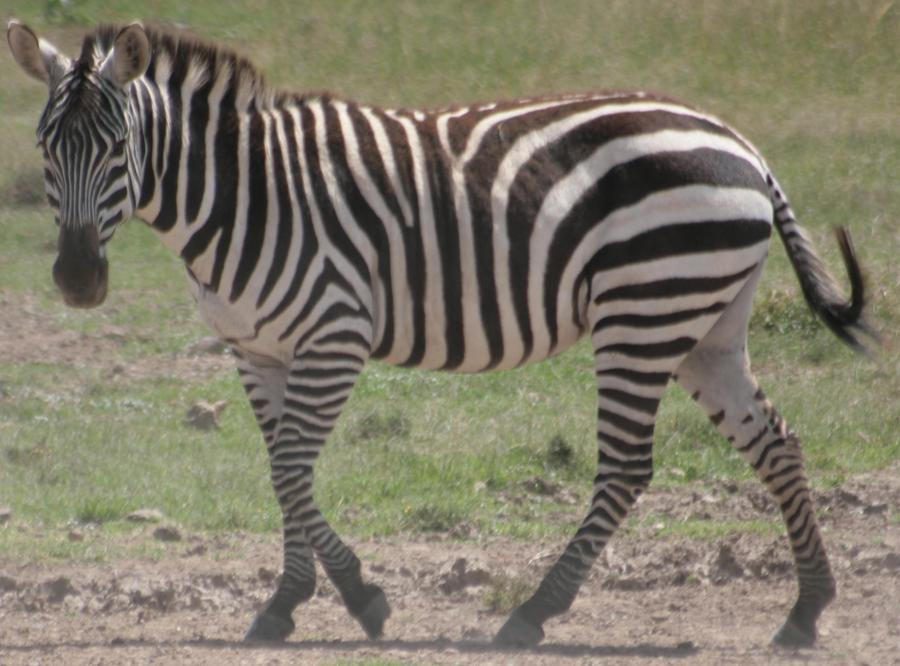zebra_plains: (209, 70, 725, 384)
